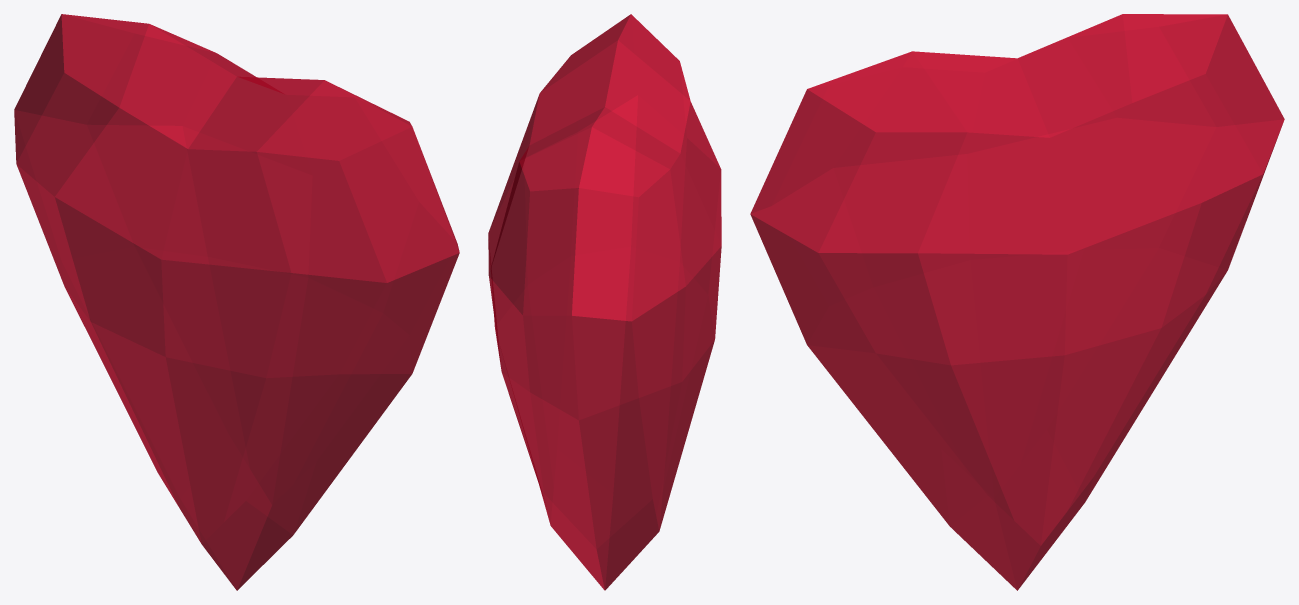
The model's file is crystal_heart.fbx.
The picture shows the model from 3 angles, left to right: view 1: azimuth 30°, elevation 25°; view 2: azimuth 150°, elevation 25°; view 3: azimuth 270°, elevation 25°; orthographic projection. The views are drawn at different scales.
Parts seen in each view (by area): view 1: Cube; view 2: Cube; view 3: Cube.
Part boxes in pixels (bbox=[...]): Cube: bbox=[14, 14, 459, 590]; Cube: bbox=[488, 14, 721, 590]; Cube: bbox=[750, 14, 1284, 590].
Size of the model in its own units: 141 by 270 by 234.
